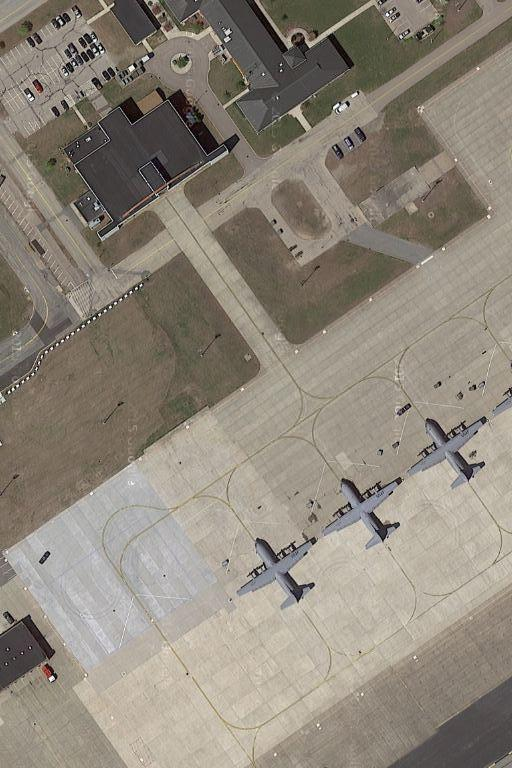C-130: (318, 469, 408, 553), (233, 535, 319, 615), (404, 414, 488, 489)
